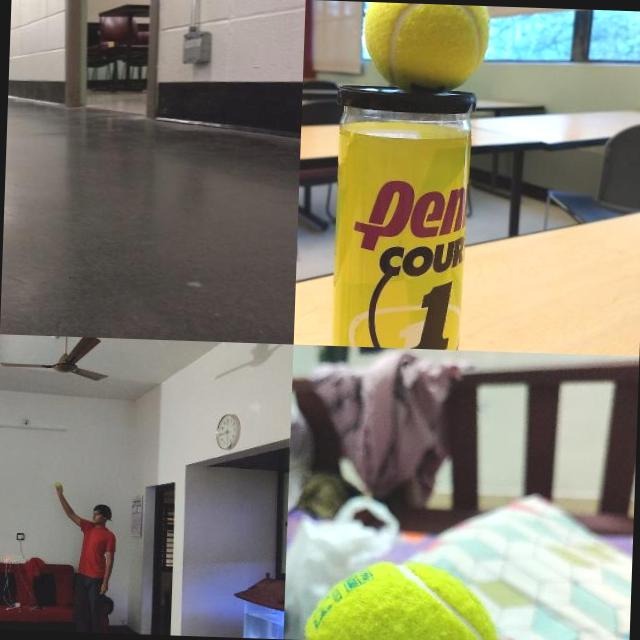Tennis Ball: (294, 554, 505, 640), (359, 1, 492, 96), (54, 482, 60, 487)
